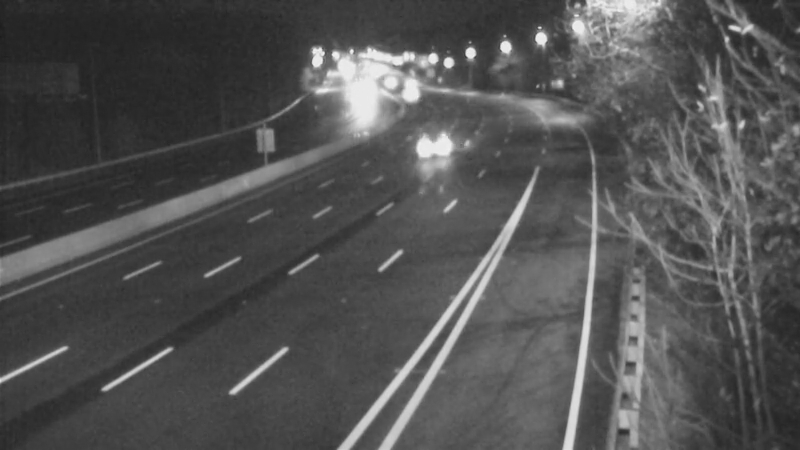vehicle: (391, 113, 471, 193), (366, 58, 416, 108), (387, 72, 437, 122), (336, 72, 386, 122)
